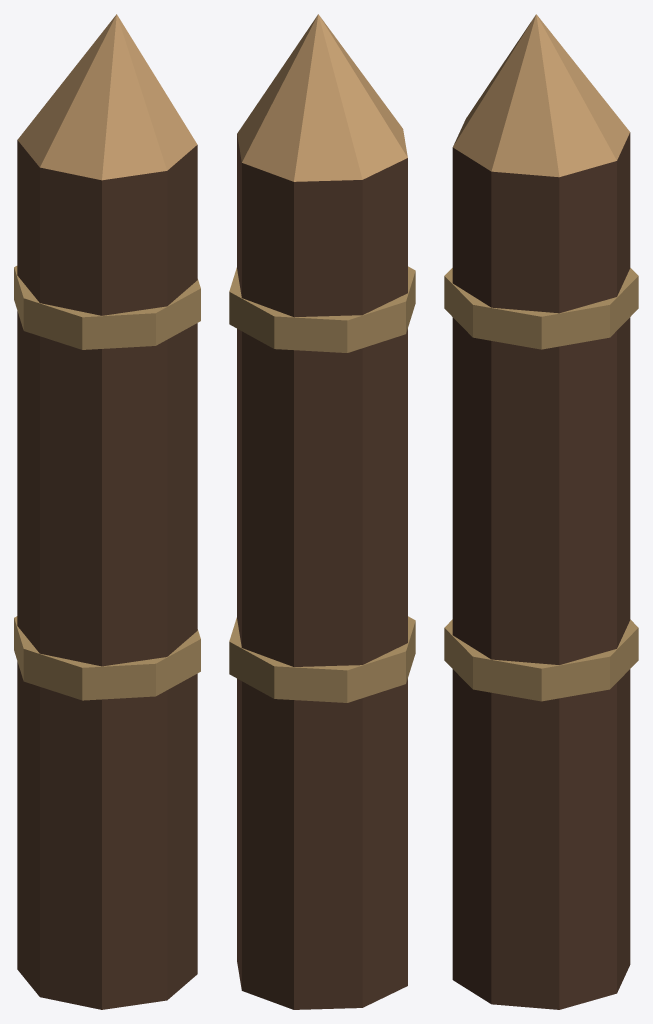
File: Palisade_Eck.fbx
3 views of the same model, side by side, from view 1: azimuth 30°, elevation 25°; view 2: azimuth 150°, elevation 25°; view 3: azimuth 270°, elevation 25° (orthographic).
Visible parts, largest first — view 1: Palisade_Eck; view 2: Palisade_Eck; view 3: Palisade_Eck.
Boxes of the visible parts, x1=… form: Palisade_Eck: x1=14, y1=14, x2=200, y2=1009; Palisade_Eck: x1=229, y1=14, x2=415, y2=1009; Palisade_Eck: x1=444, y1=14, x2=638, y2=1009.
Size of the model in its own units: 0.75 by 4.1 by 0.75.
